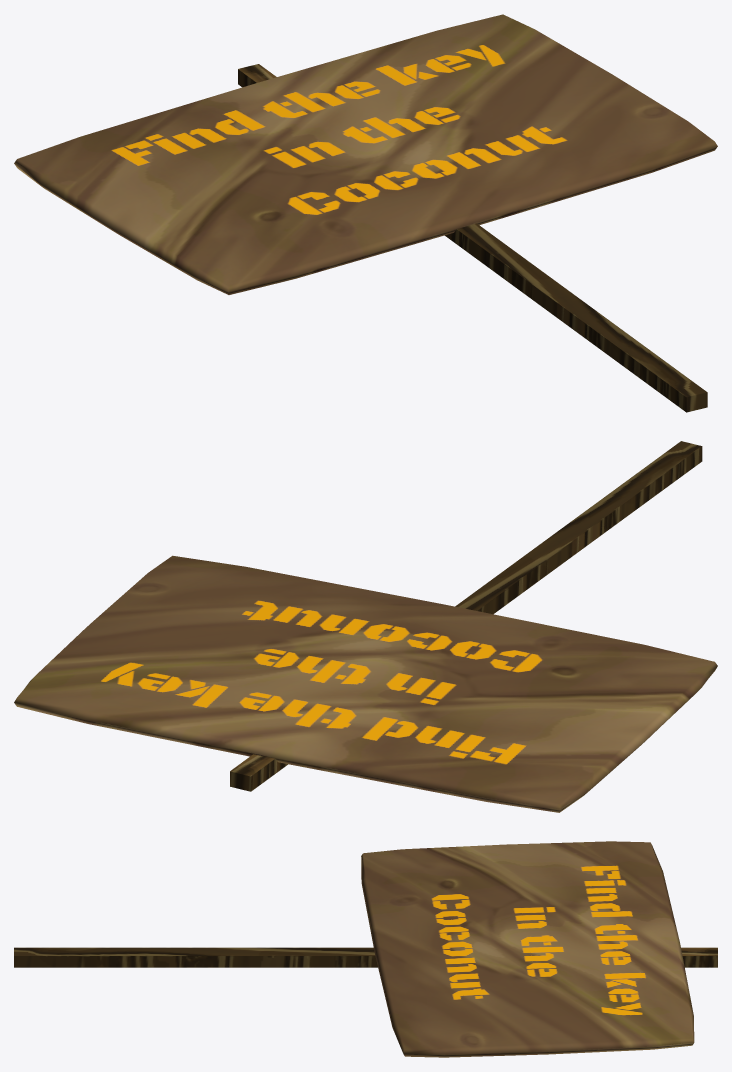
File: Cartel.glb
3 views of the same model, one above another, from view 1: azimuth 30°, elevation 25°; view 2: azimuth 150°, elevation 25°; view 3: azimuth 270°, elevation 25° (orthographic). The views are drawn at different scales.
Parts seen in each view (by area): view 1: pCube3, pCube2; view 2: pCube3, pCube2; view 3: pCube3, pCube2.
Boxes of the visible parts, bbox=[...] form: pCube3: bbox=[14, 14, 717, 294]; pCube2: bbox=[238, 64, 707, 412]; pCube3: bbox=[14, 555, 717, 812]; pCube2: bbox=[230, 441, 702, 791]; pCube3: bbox=[361, 841, 694, 1057]; pCube2: bbox=[14, 947, 717, 967].
Size of the model in its own units: 0.0958 by 0.00502 by 0.1355.
Materials: 2 (2 with a texture image).
